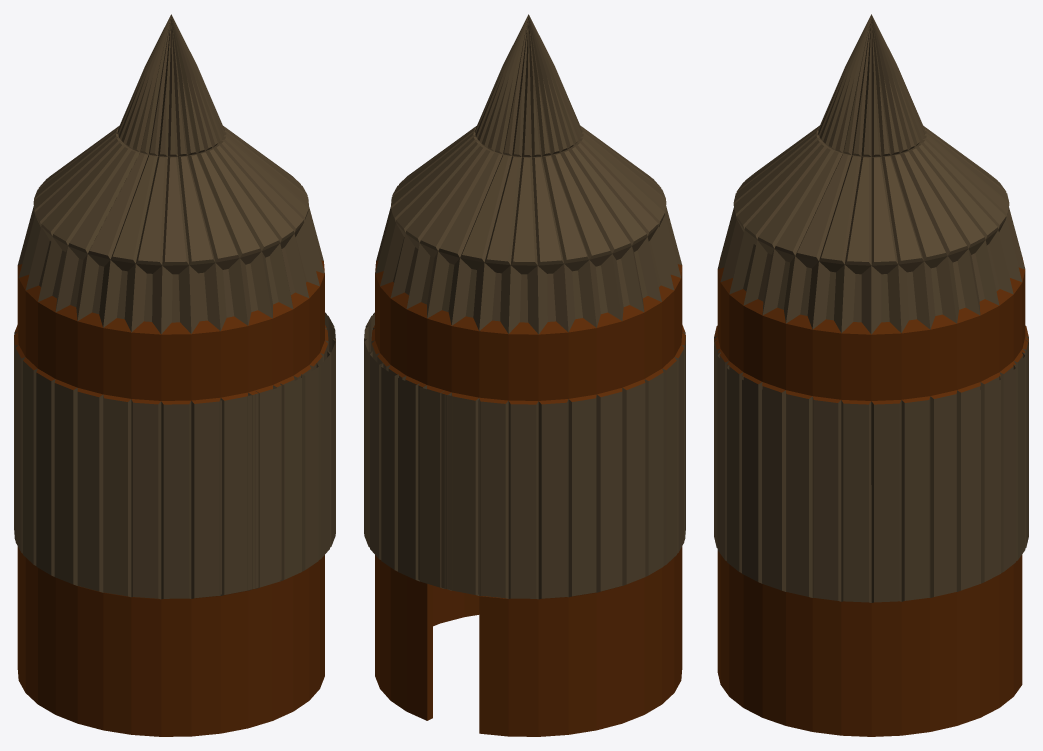
The model's file is WindmillRoom.fbx.
The picture shows the model from 3 angles, left to right: view 1: azimuth 30°, elevation 25°; view 2: azimuth 150°, elevation 25°; view 3: azimuth 270°, elevation 25°; orthographic projection.
Parts seen in each view (by area): view 1: Windmill.002; view 2: Windmill.002; view 3: Windmill.002.
Part boxes in pixels (x1,y1,x2,y2): Windmill.002: [14, 14, 335, 736]; Windmill.002: [364, 14, 685, 736]; Windmill.002: [714, 14, 1028, 736].
Bounding box in the file's own units: 5.86 × 13.17 × 5.71.
